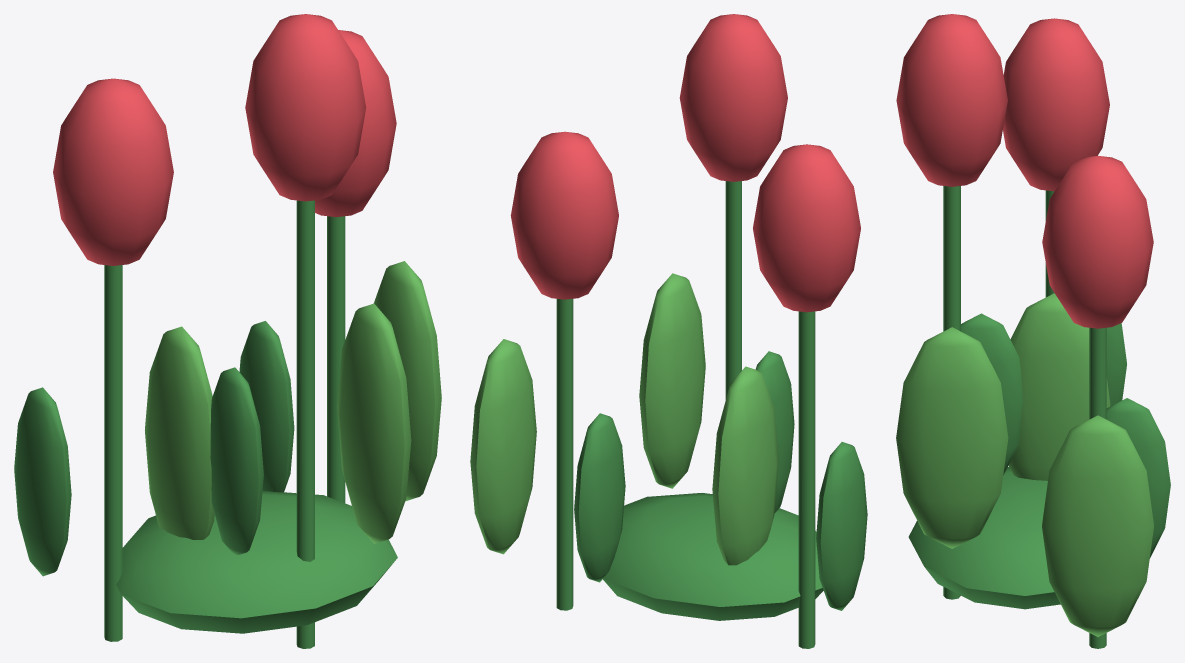
Rendered from tulips_red.glb.
3 renders of one model, left to right at view 1: azimuth 30°, elevation 25°; view 2: azimuth 150°, elevation 25°; view 3: azimuth 270°, elevation 25°, orthographic. The views are drawn at different scales.
Parts seen in each view (by area): view 1: tulips_red; view 2: tulips_red; view 3: tulips_red.
Part boxes in pixels (x1,y1,x2,y2): tulips_red: (14,14,441,648); tulips_red: (470,14,867,648); tulips_red: (896,14,1170,648).
Size of the model in its own units: 0.5955 by 0.8805 by 0.377.
